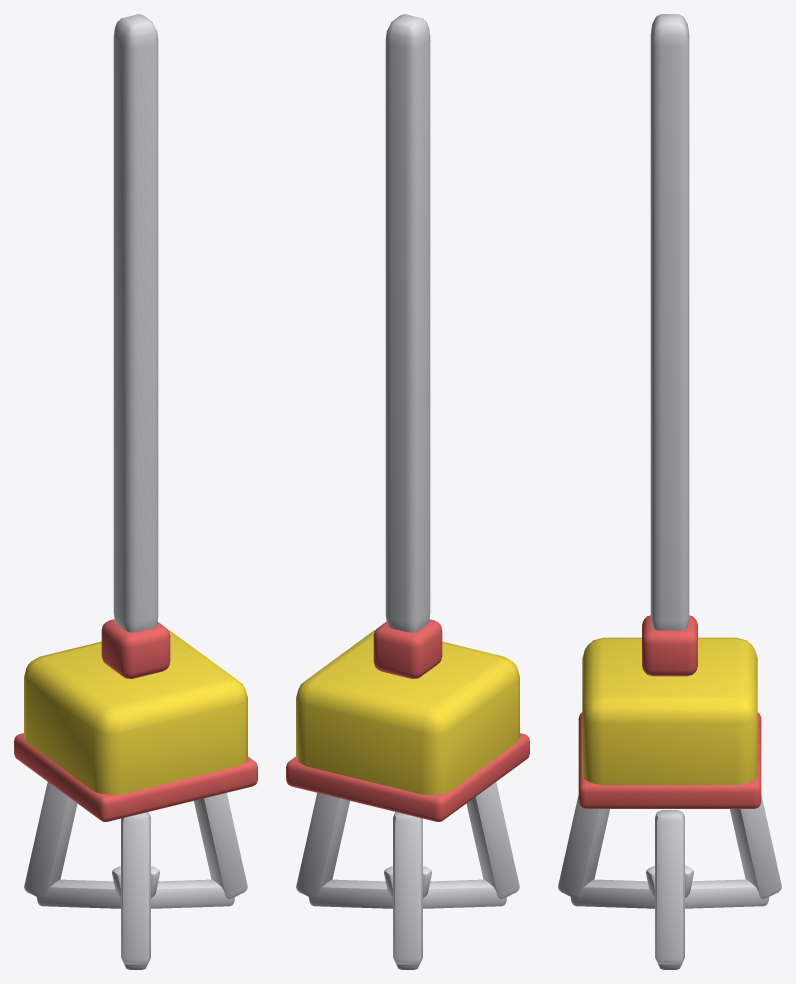
The model's file is Claw.fbx.
3 renders of one model, left to right at view 1: azimuth 30°, elevation 25°; view 2: azimuth 150°, elevation 25°; view 3: azimuth 270°, elevation 25°, orthographic.
Visible parts, largest first — view 1: Claw_Shaft, Claw_Housing, Claw_HousingBand, Claw_Prong2_A, Claw_Prong1_A, Claw_Prong0_A, Claw_Coupler, Claw_Prong0_B, Claw_Prong1_B; view 2: Claw_Shaft, Claw_Housing, Claw_HousingBand, Claw_Prong1_A, Claw_Prong2_A, Claw_Prong0_A, Claw_Coupler, Claw_Prong0_B, Claw_Prong2_B; view 3: Claw_Shaft, Claw_Housing, Claw_HousingBand, Claw_Prong0_A, Claw_Prong1_A, Claw_Prong2_A, Claw_Coupler, Claw_Prong1_B, Claw_Prong2_B.
Boxes of the visible parts, x1,y1,x2,y2 form: Claw_Shaft: (113, 14, 158, 632); Claw_Housing: (24, 630, 247, 794); Claw_HousingBand: (14, 733, 257, 821); Claw_Prong2_A: (121, 812, 150, 964); Claw_Prong1_A: (24, 782, 77, 898); Claw_Prong0_A: (194, 793, 247, 898); Claw_Coupler: (101, 619, 170, 678); Claw_Prong0_B: (151, 879, 235, 908); Claw_Prong1_B: (36, 879, 120, 908); Claw_Shaft: (385, 14, 430, 632); Claw_Housing: (296, 630, 519, 794); Claw_HousingBand: (286, 733, 529, 821); Claw_Prong1_A: (393, 812, 422, 964); Claw_Prong2_A: (466, 782, 519, 898); Claw_Prong0_A: (296, 793, 349, 898); Claw_Coupler: (373, 619, 442, 678); Claw_Prong0_B: (308, 879, 392, 908); Claw_Prong2_B: (423, 879, 507, 908); Claw_Shaft: (650, 14, 689, 630); Claw_Housing: (582, 637, 757, 785); Claw_HousingBand: (578, 712, 761, 808); Claw_Prong0_A: (655, 810, 684, 964); Claw_Prong1_A: (730, 795, 781, 898); Claw_Prong2_A: (558, 795, 609, 898); Claw_Coupler: (642, 615, 697, 676); Claw_Prong1_B: (685, 879, 769, 908); Claw_Prong2_B: (570, 879, 654, 908).
Size of the model in its own units: 61.27 by 285 by 63.76.
